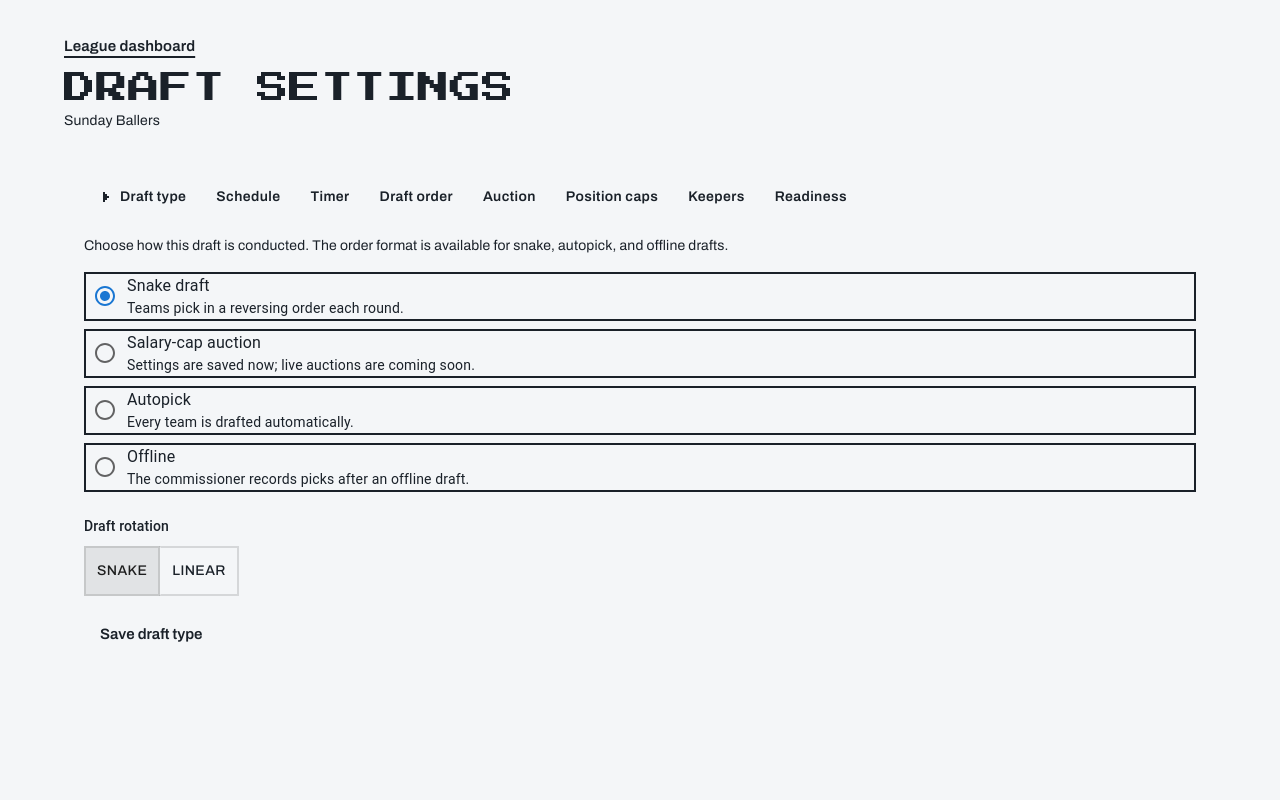
it: saving keeper settings preserves and continues guarding unsaved assignment edits
The image size is (1280, 800).
Expected: the text "Sunday Ballers" is shown, [64,113,160,128]
Click the tab "Keepers" at (717, 197), box [672,175,761,219]
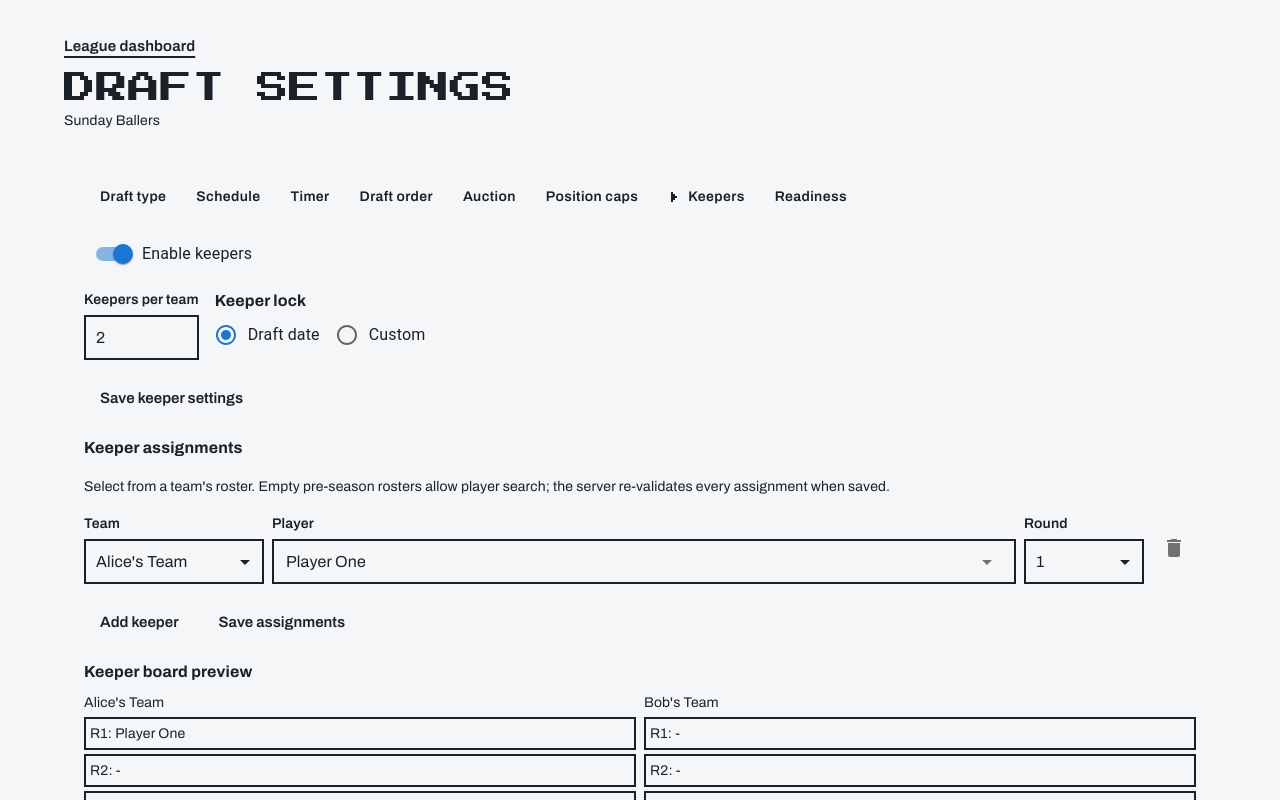
Result: the checkbox labelled "Enable keepers" is shown at [96,244,252,264]
Click the dropdown named "Round" at (1040, 562), box [1036,553,1044,570]
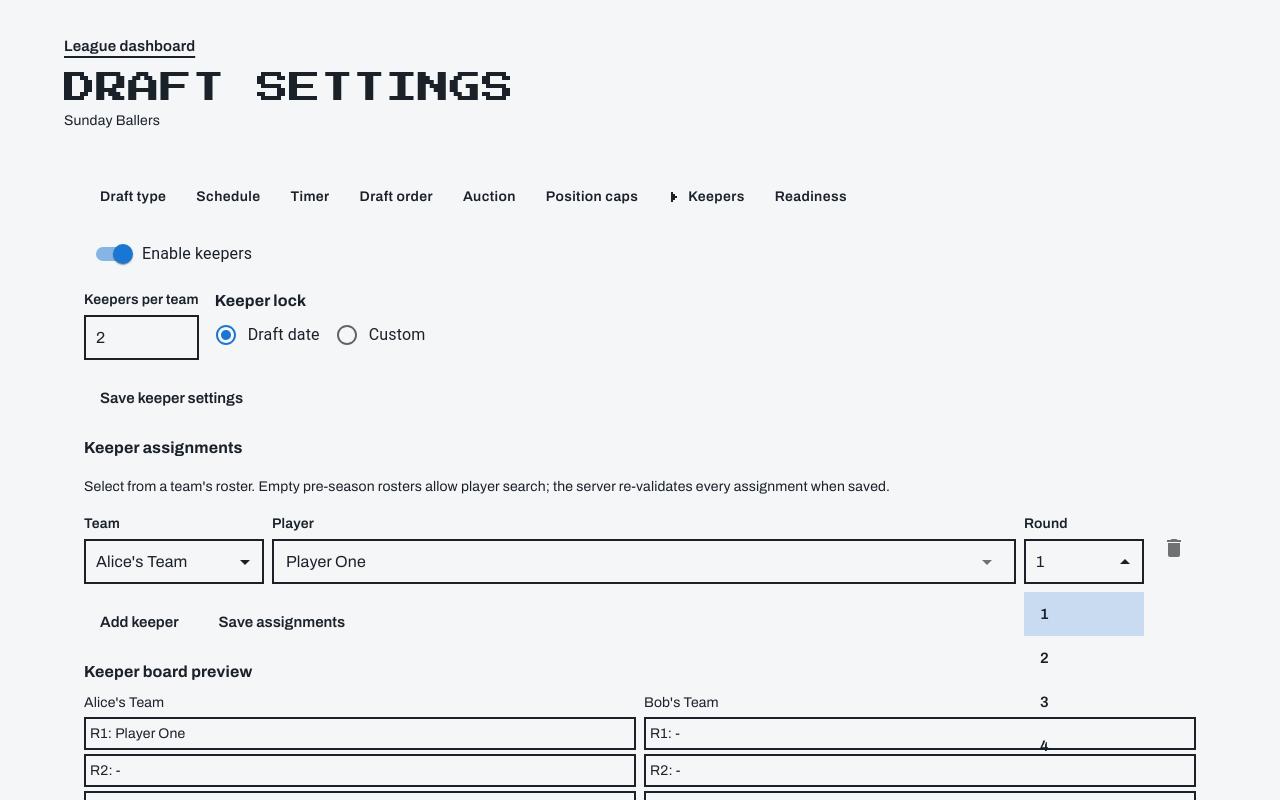
Click the option "2" at (1044, 658), box [1040,650,1049,666]
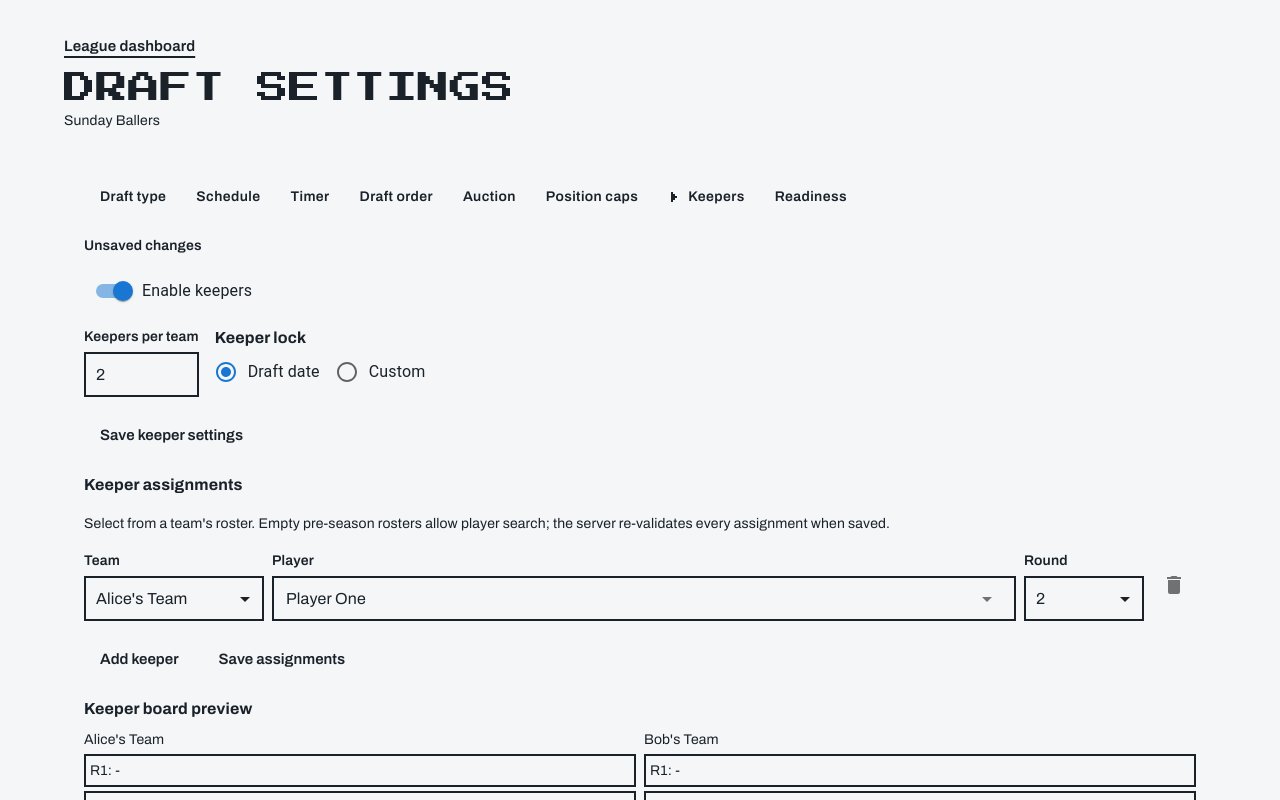
Click the button "Save keeper settings" at (172, 435), box [84,413,259,457]
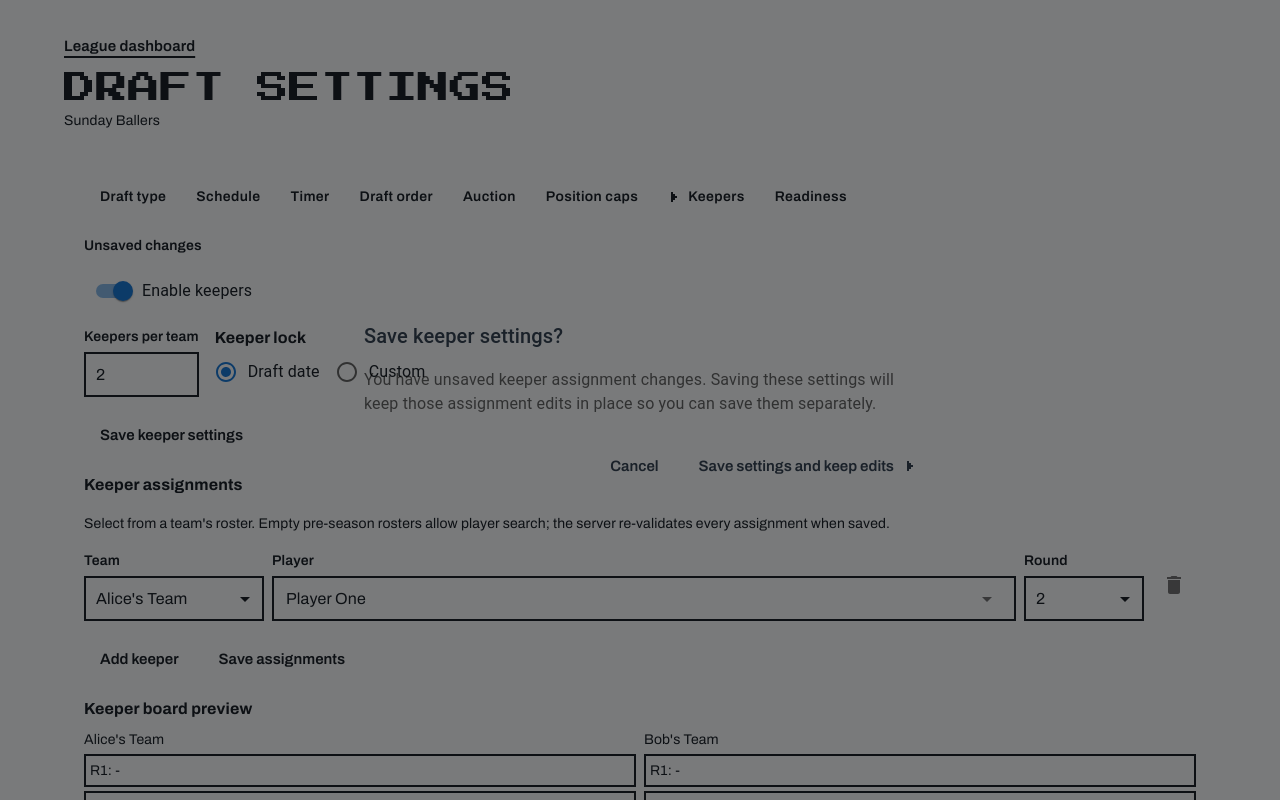
Result: the dialog "Save keeper settings?" is shown at [340,304,940,496]
Click the button "Save settings and keep edits" at (807, 466), box [683,444,932,488]
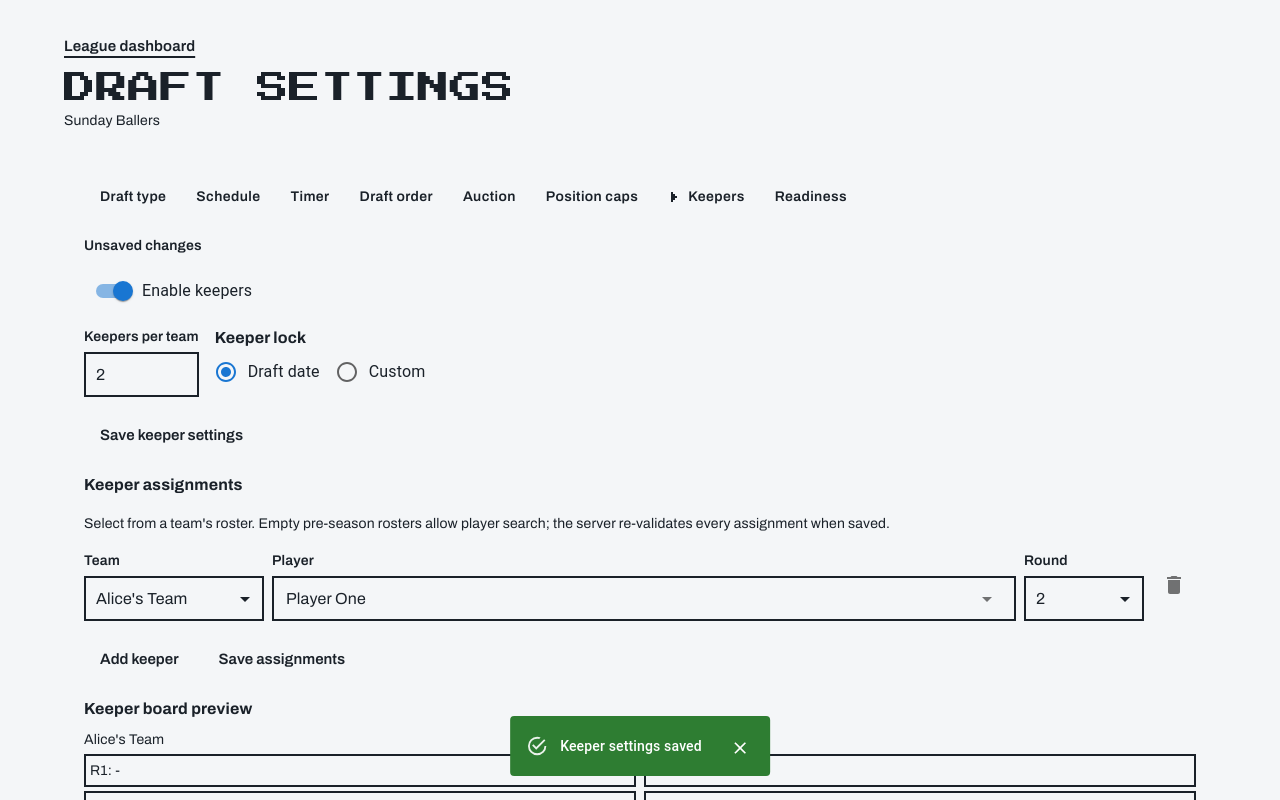
Expected: the dialog "Save keeper settings?" is not shown
Result: the dropdown named "Round" reads "2" at [1036,590,1045,607]
Result: the button "Save keeper settings" is enabled at [84,413,259,457]
Click the tab "Timer" at (310, 197), box [274,175,346,219]
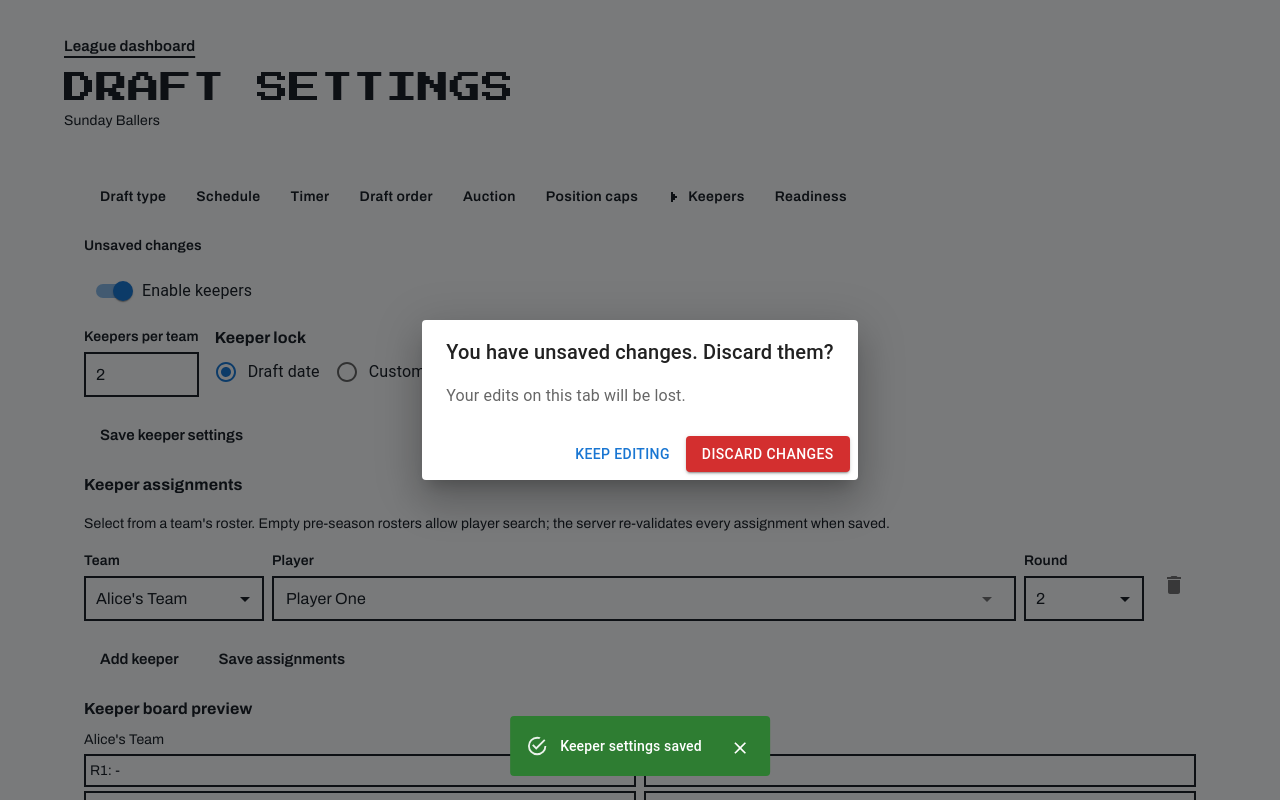
Result: the dialog "You have unsaved changes" is shown at [422,320,858,480]
